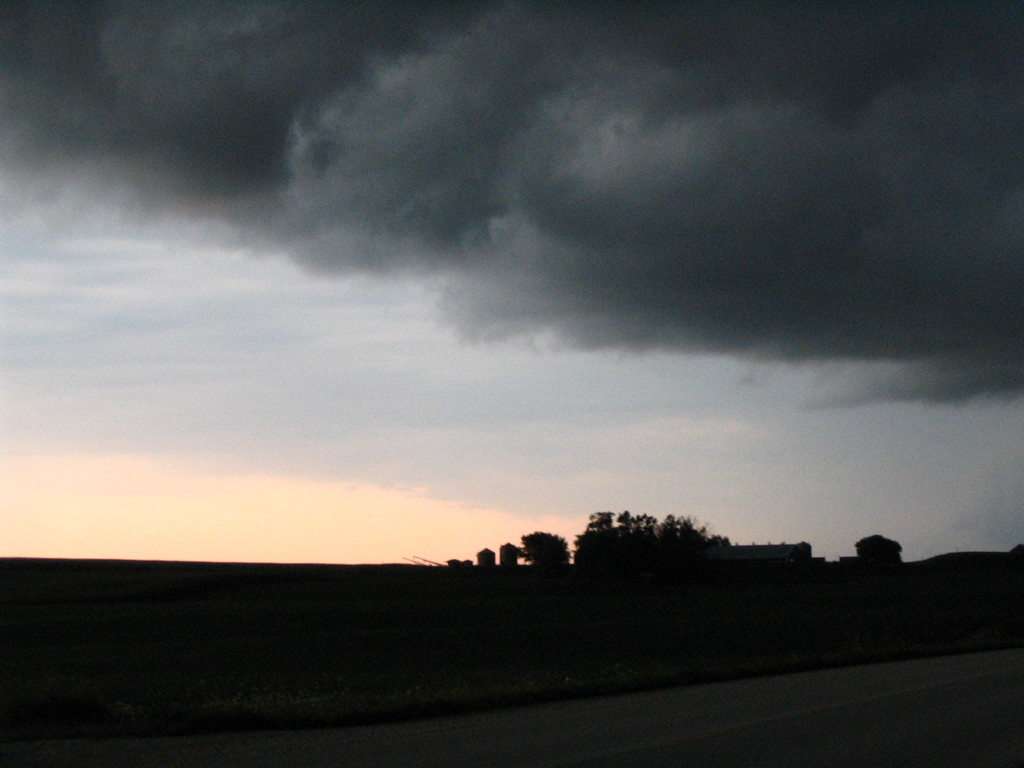Tree: (572, 513, 753, 583), (520, 520, 565, 572), (848, 530, 894, 568)
